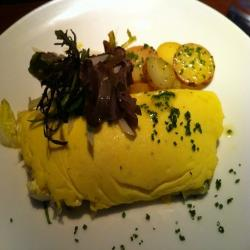omelette: (23, 86, 228, 216)
